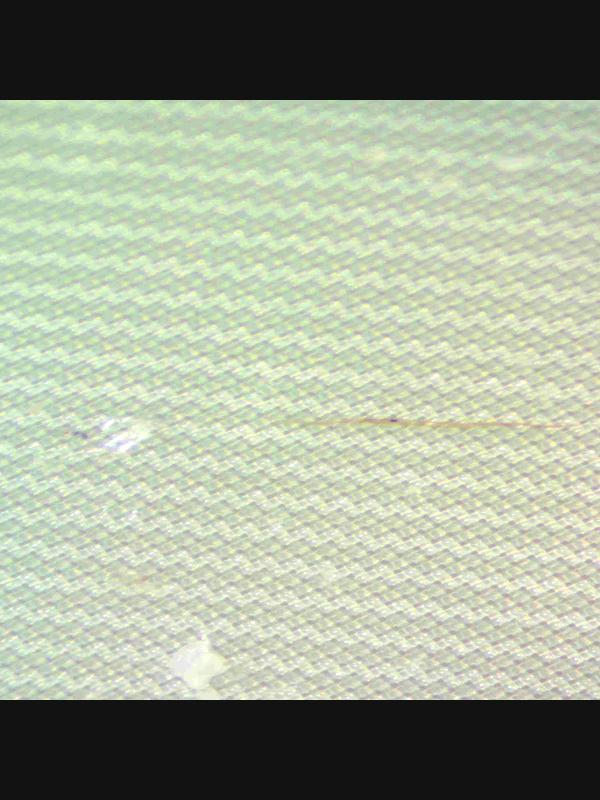microplastic: (0, 101, 600, 699)
